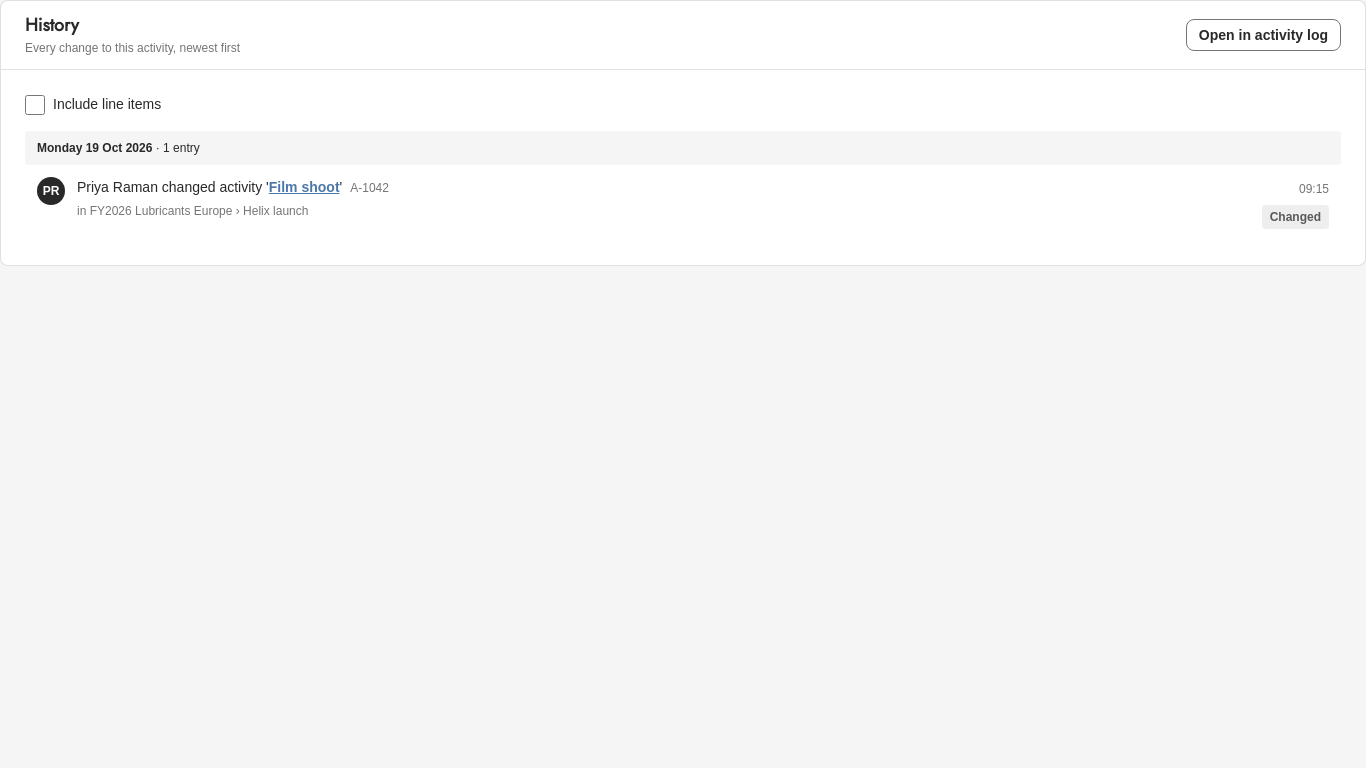
Test case: HistorySection › says when the choice could not be saved, with Try again (FR-012)
What coordinates should you click on to do the following:
click the checkbox labelled "Include line items"
I would click on:
 (35, 104)
Its box is [25,94,45,114].
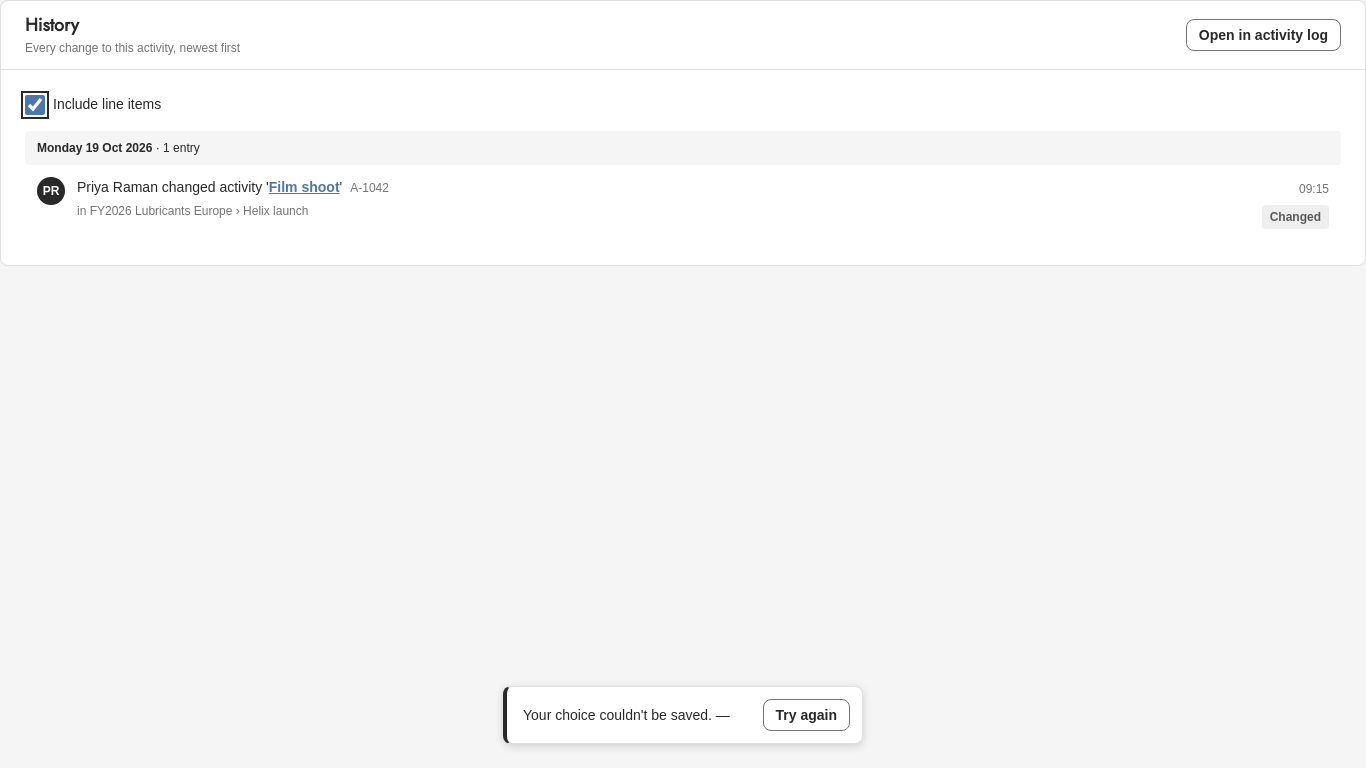
Check: the button "Try again" is shown, box [762,699,850,731]
